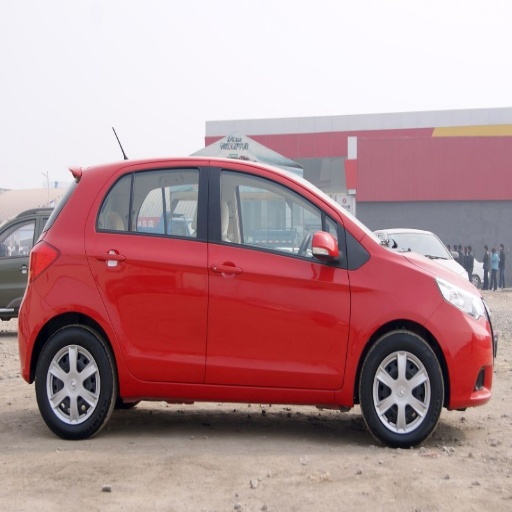back_right_door: (87, 161, 209, 382)
front_right_door: (205, 162, 350, 388)
